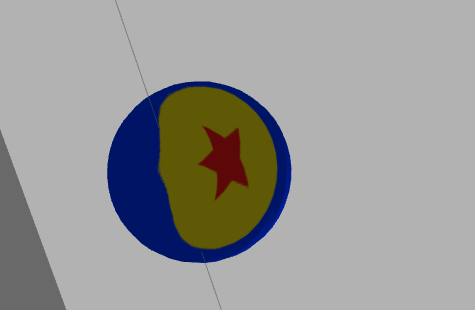toy story ball: (108, 81, 292, 262)
